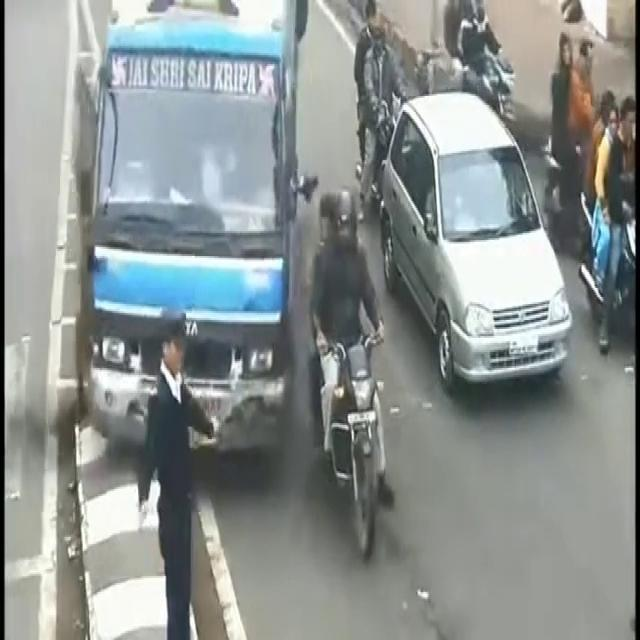accident: (39, 0, 301, 540)
